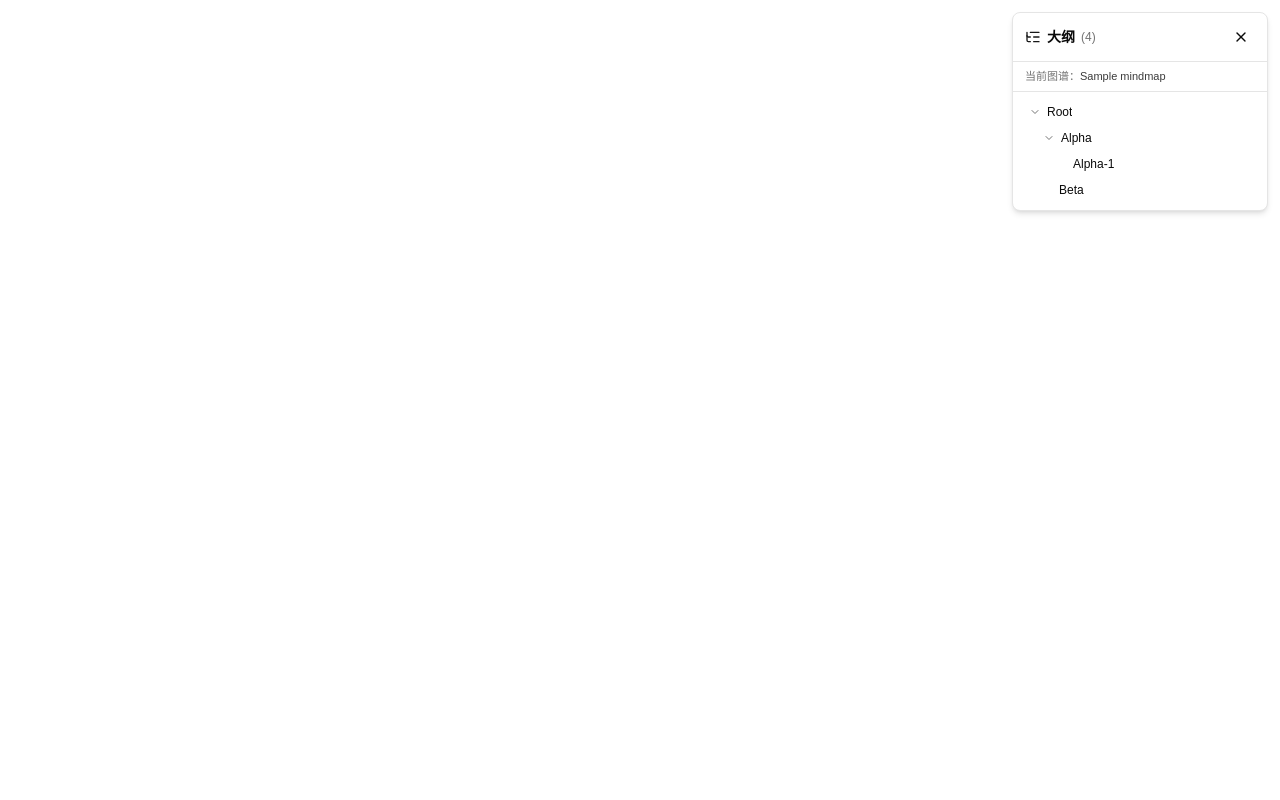
Test: MindMapOutline › collapses a subtree when its chevron is clicked
The image size is (1280, 800).
expect the list item with test id "mindmap-outline-row-a1" is shown: met, box x1=1073 y1=156 x2=1255 y2=172
Click the 2nd button named "折叠子节点" at (1049, 138), box x1=1041 y1=130 x2=1057 y2=146
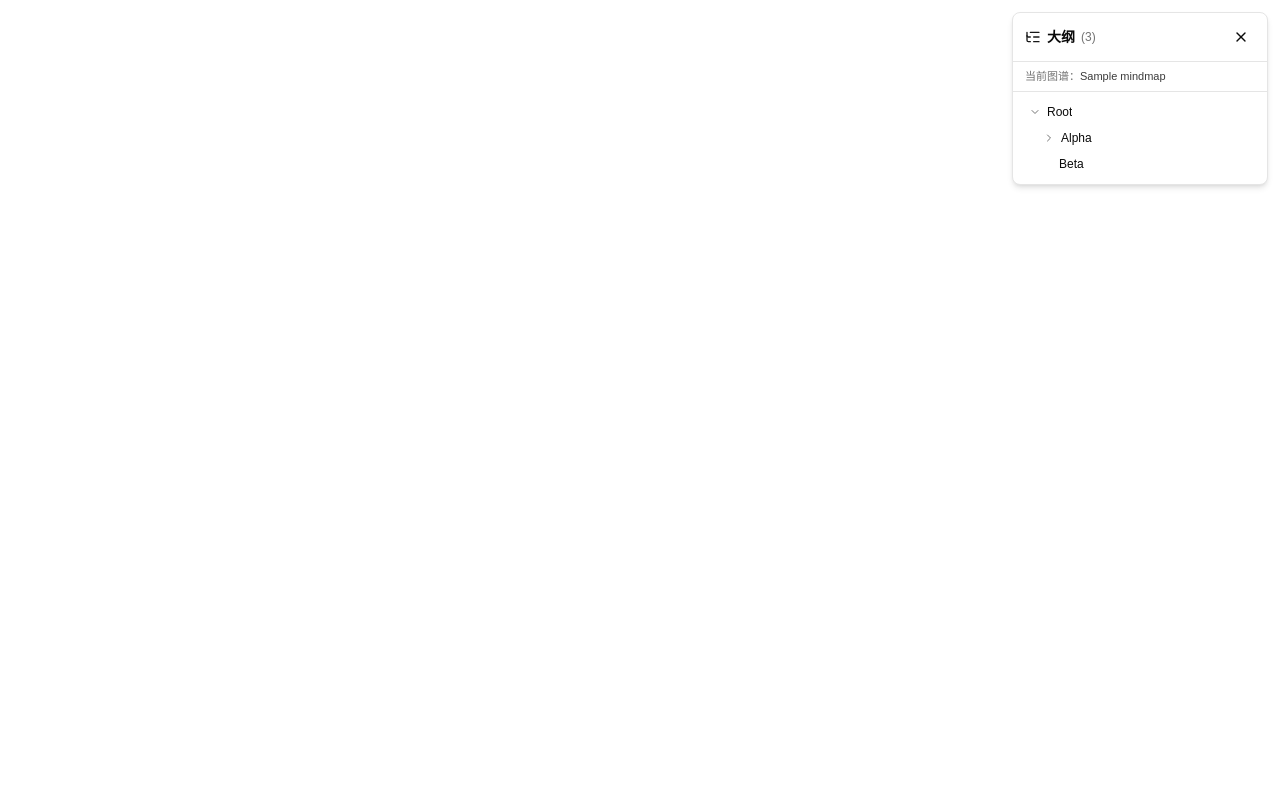
expect the list item with test id "mindmap-outline-row-a1" is gone: met
